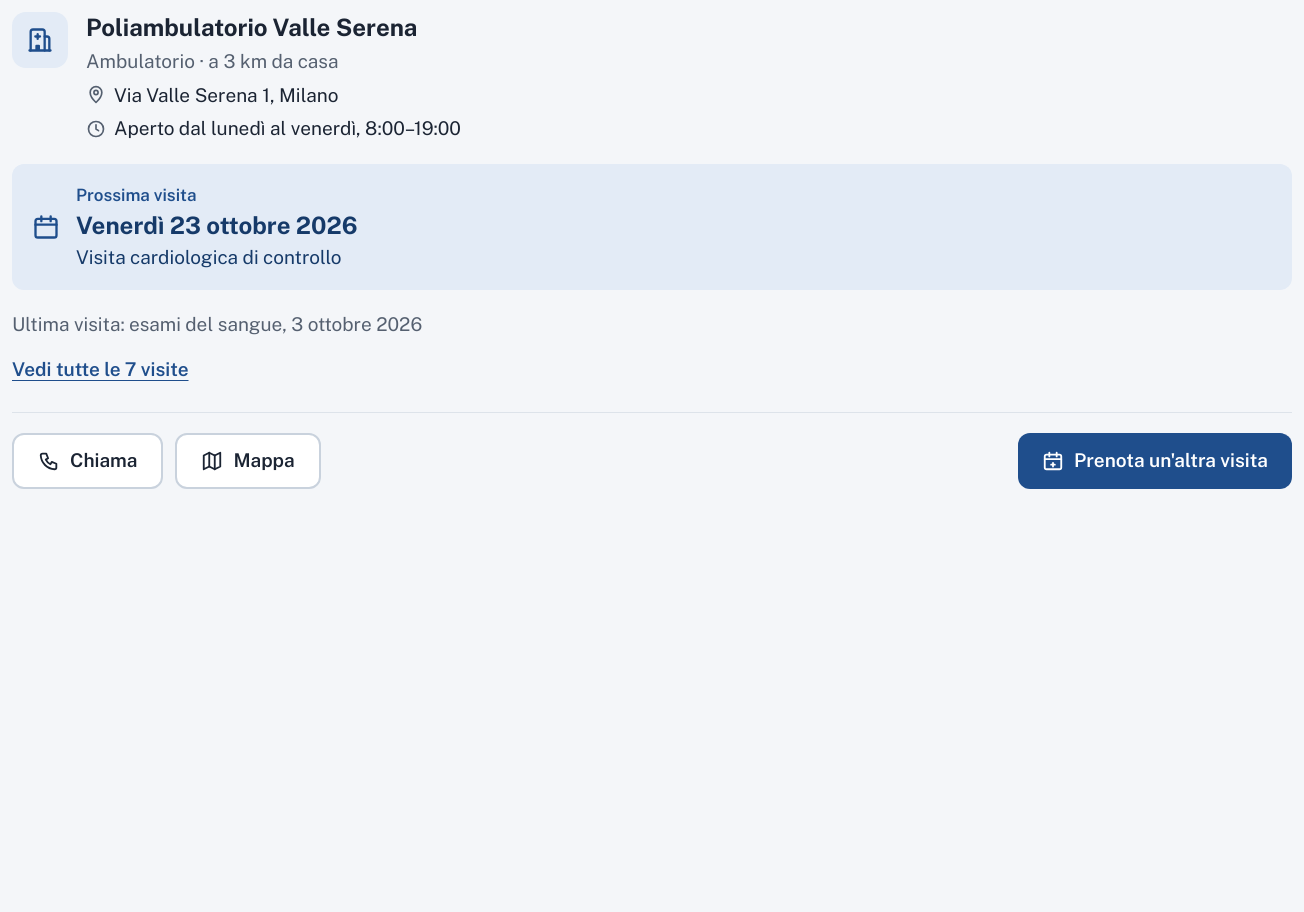
Test: SchedaStudio › «Vedi tutte le 7 visite» apre lo storico, con le prossime segnate come prenotate
The width and height of the screenshot is (1304, 912).
Click the button "Vedi tutte le 7 visite" at (100,370), box [12,348,188,392]
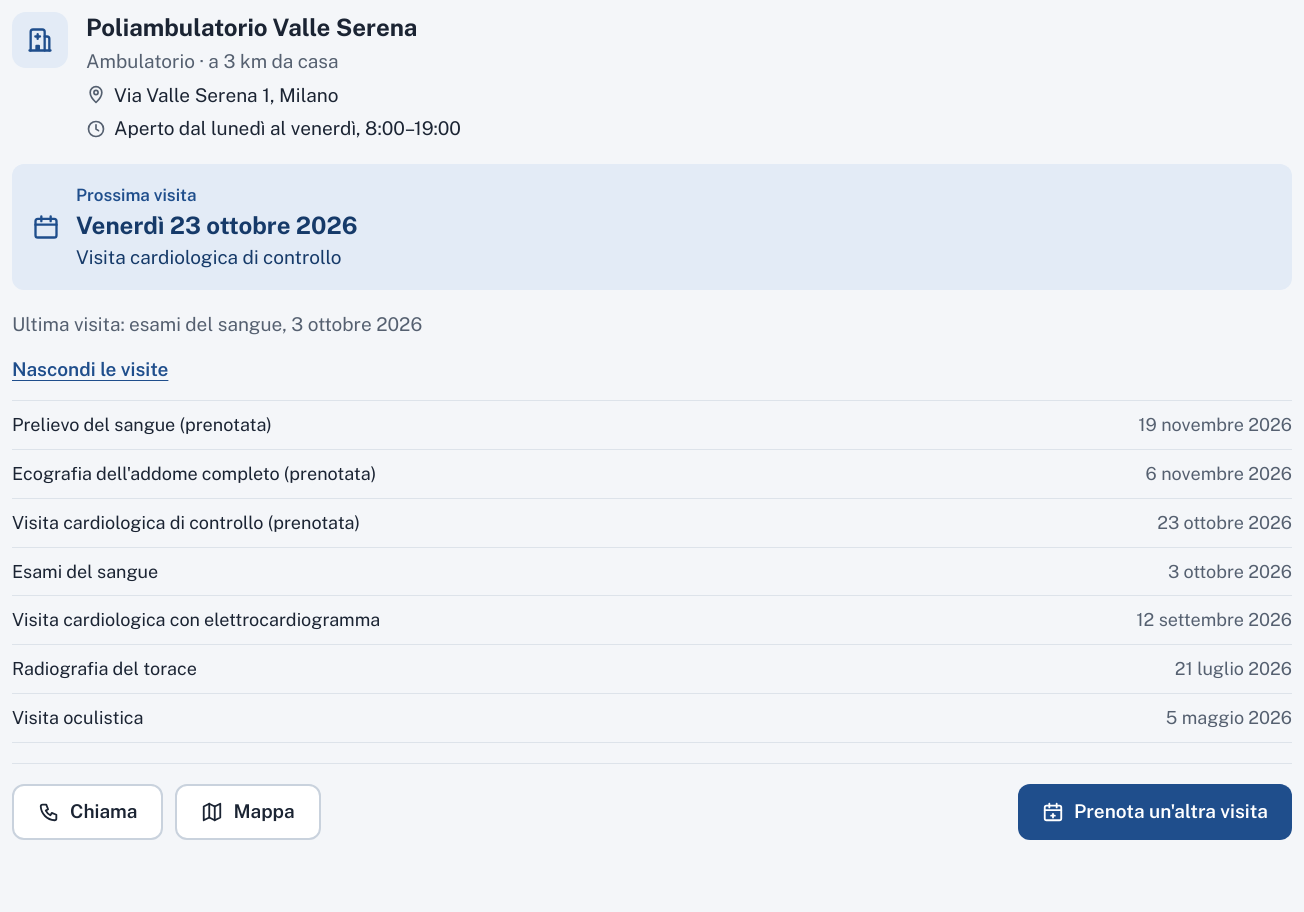
Check: the button named "Vedi tutte le 7 visite" is expanded
Check: the number of list items is 7
Check: the list item "Visita cardiologica di controllo (prenotata) 23 ottobre 2026" is shown, box [12,499,1292,548]
Click the button "Nascondi le visite" at (90,370), box [12,348,168,392]
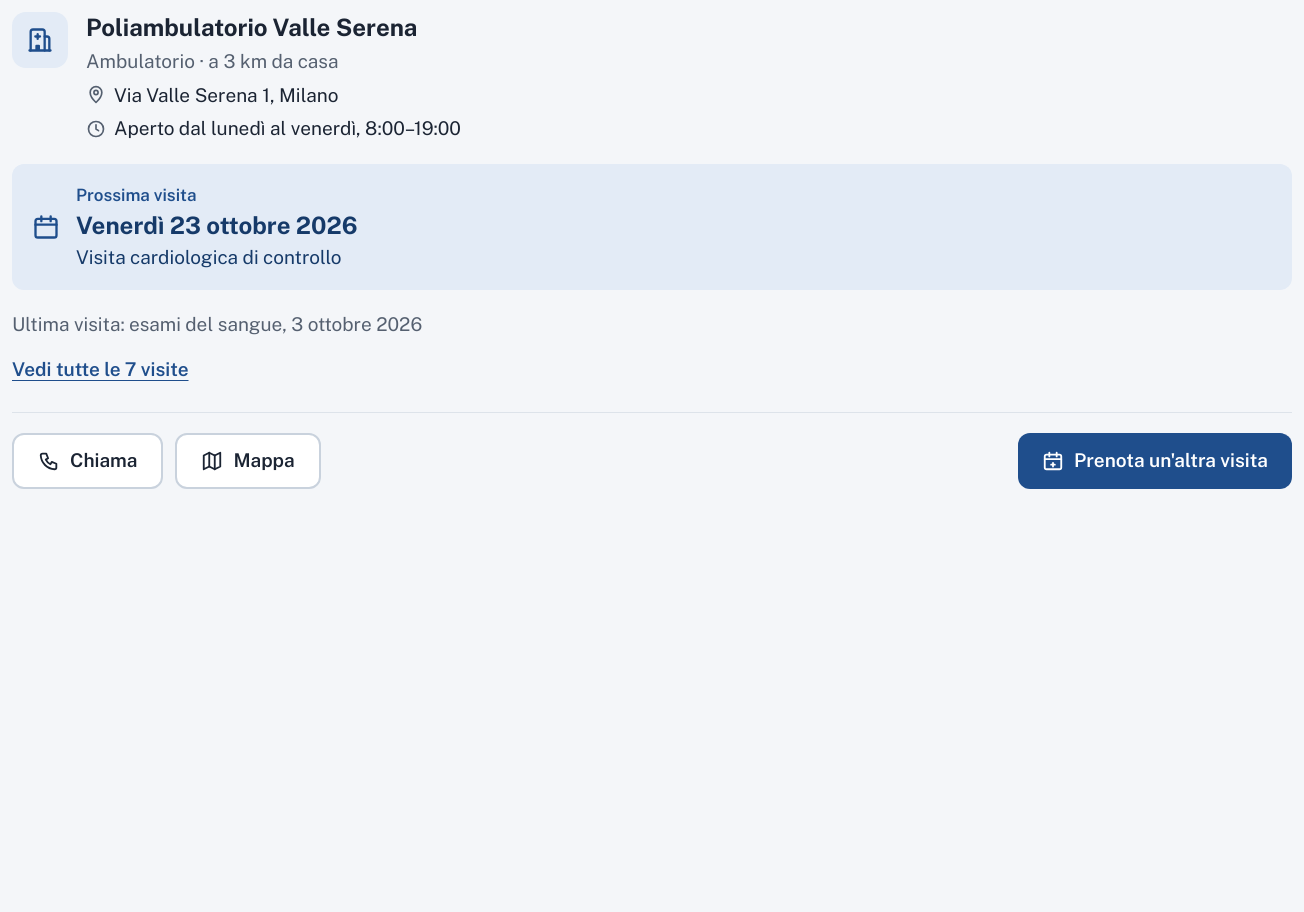
Check: no list items are shown
